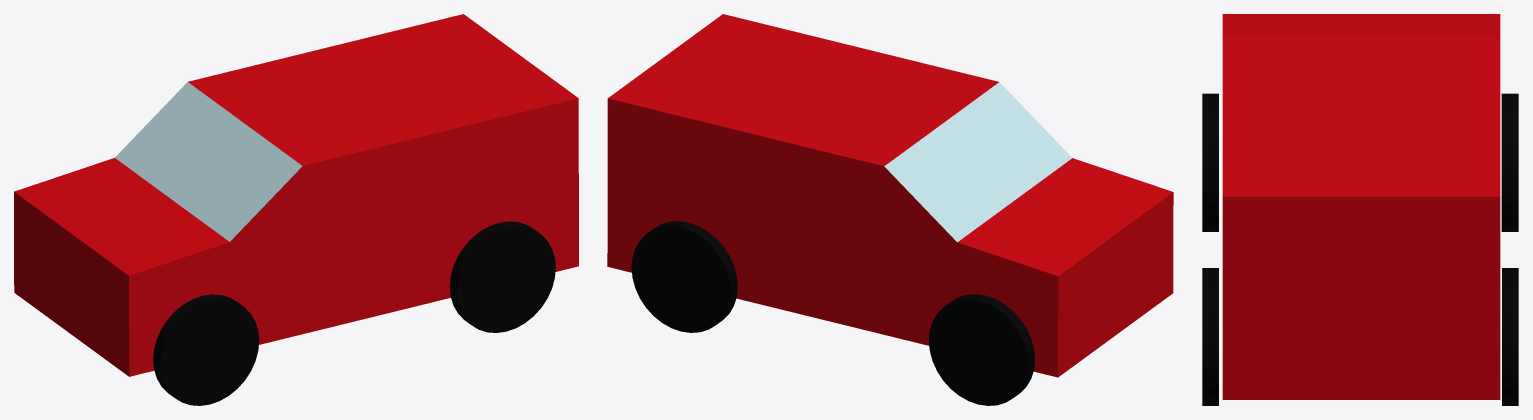
File: Car.fbx
3 renders of one model, left to right at view 1: azimuth 30°, elevation 25°; view 2: azimuth 150°, elevation 25°; view 3: azimuth 270°, elevation 25°, orthographic. The views are drawn at different scales.
Parts seen in each view (by area): view 1: Cylinder; view 2: Cylinder; view 3: Cylinder.
Boxes of the visible parts, x1,y1,x2,y2 form: Cylinder: (14, 14, 578, 405); Cylinder: (607, 14, 1173, 405); Cylinder: (1202, 14, 1518, 405).
Bounding box in the file's own units: 451 × 200 × 228.
